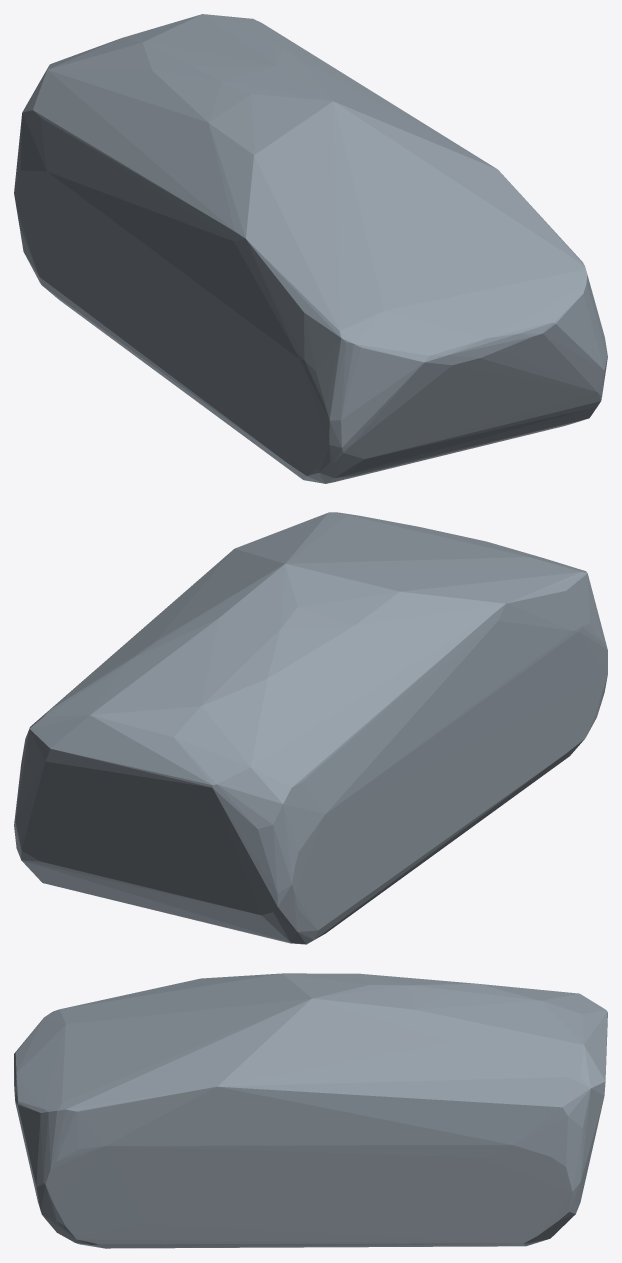
The model's file is rally-raid-collision.glb.
3 views of the same model, one above another, from view 1: azimuth 30°, elevation 25°; view 2: azimuth 150°, elevation 25°; view 3: azimuth 270°, elevation 25° (orthographic). The views are drawn at different scales.
Visible parts, largest first — view 1: rally-raid_collision; view 2: rally-raid_collision; view 3: rally-raid_collision.
Boxes of the visible parts, box(x1,y1,x2,y2) form: rally-raid_collision: box(14, 14, 607, 483); rally-raid_collision: box(14, 512, 607, 944); rally-raid_collision: box(14, 973, 607, 1248).
Size of the model in its own units: 2.08 by 1.78 by 4.6.
